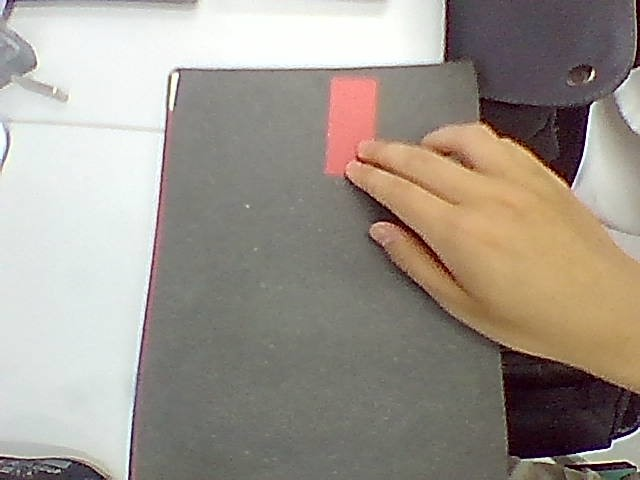card: (324, 76, 377, 175)
